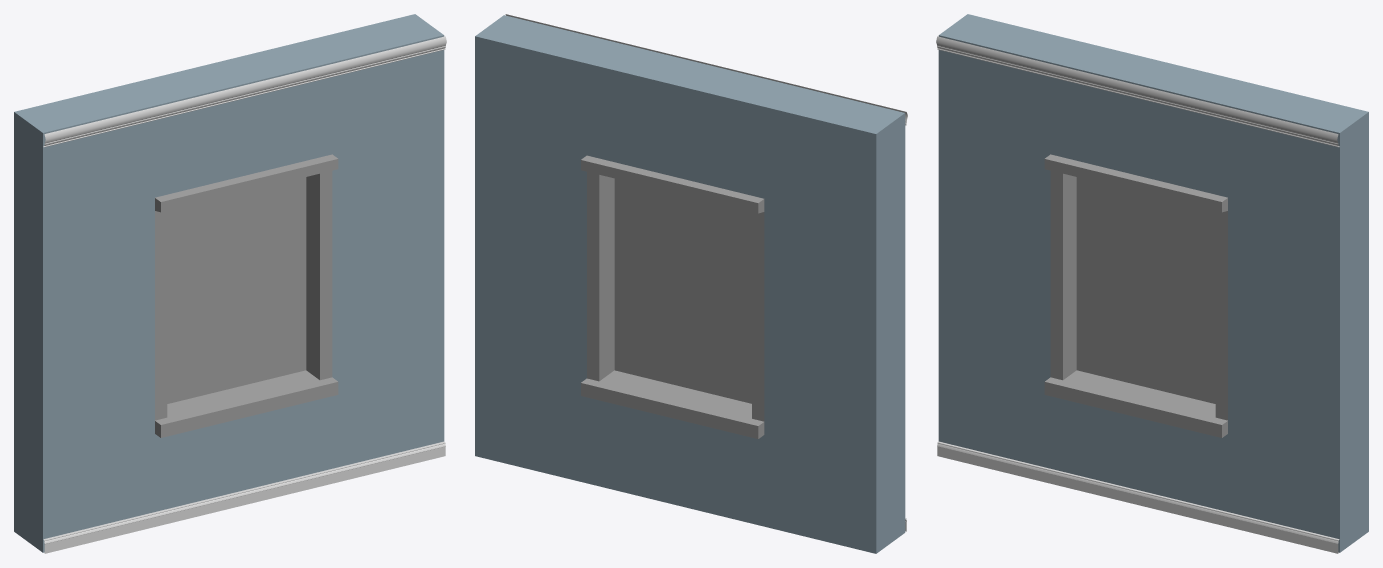
The model's file is SM_Wall_Window_Outside.fbx.
3 renders of one model, left to right at view 1: azimuth 30°, elevation 25°; view 2: azimuth 150°, elevation 25°; view 3: azimuth 330°, elevation 25°, orthographic.
Visible parts, largest first — view 1: SM_Wall_Window_Outside; view 2: SM_Wall_Window_Outside; view 3: SM_Wall_Window_Outside.
Part boxes in pixels (x1=…): SM_Wall_Window_Outside: x1=14, y1=14, x2=446, y2=553; SM_Wall_Window_Outside: x1=475, y1=14, x2=907, y2=553; SM_Wall_Window_Outside: x1=936, y1=14, x2=1368, y2=553.
Bounding box in the file's own units: 2 × 2 × 0.3544.
